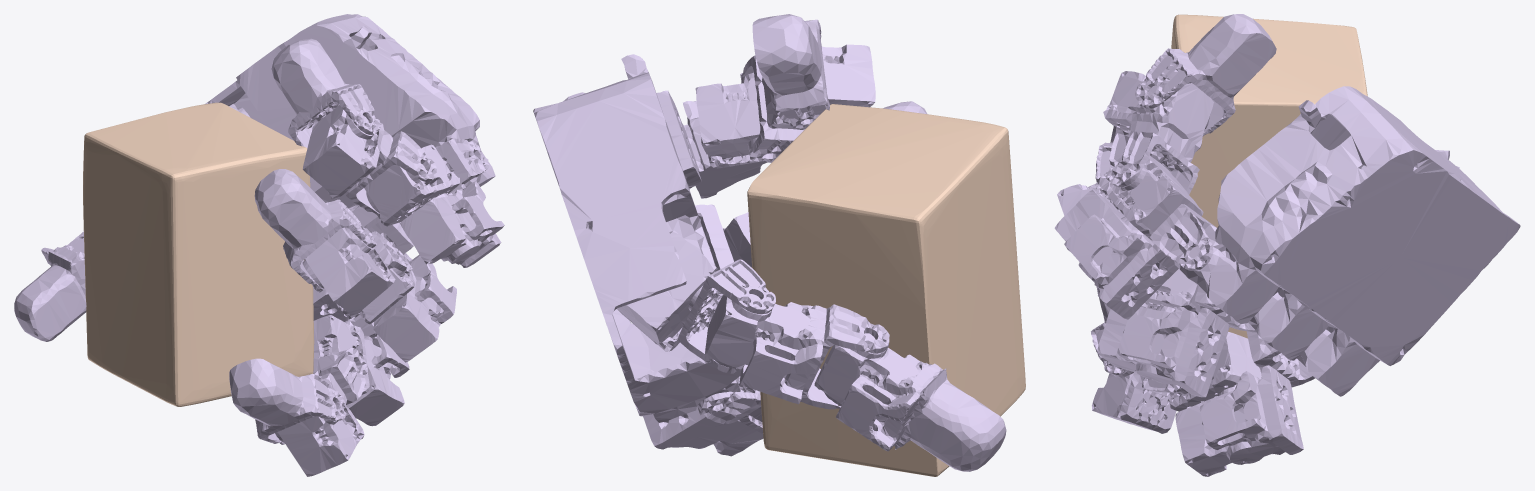
The picture shows the model from 3 angles, left to right: view 1: azimuth 30°, elevation 25°; view 2: azimuth 150°, elevation 25°; view 3: azimuth 270°, elevation 25°; orthographic projection. The views are drawn at different scales.
Parts seen in each view (by area): view 1: LEAP_hand, world; view 2: LEAP_hand, world; view 3: LEAP_hand, world.
Part boxes in pixels (x1,y1,x2,y2): LEAP_hand: (14, 14, 504, 476); world: (83, 102, 314, 406); LEAP_hand: (533, 14, 1006, 471); world: (747, 104, 1025, 476); LEAP_hand: (1054, 14, 1520, 476); world: (1171, 14, 1367, 338).
Size of the model in its own units: 0.2213 by 0.196 by 0.1928.
